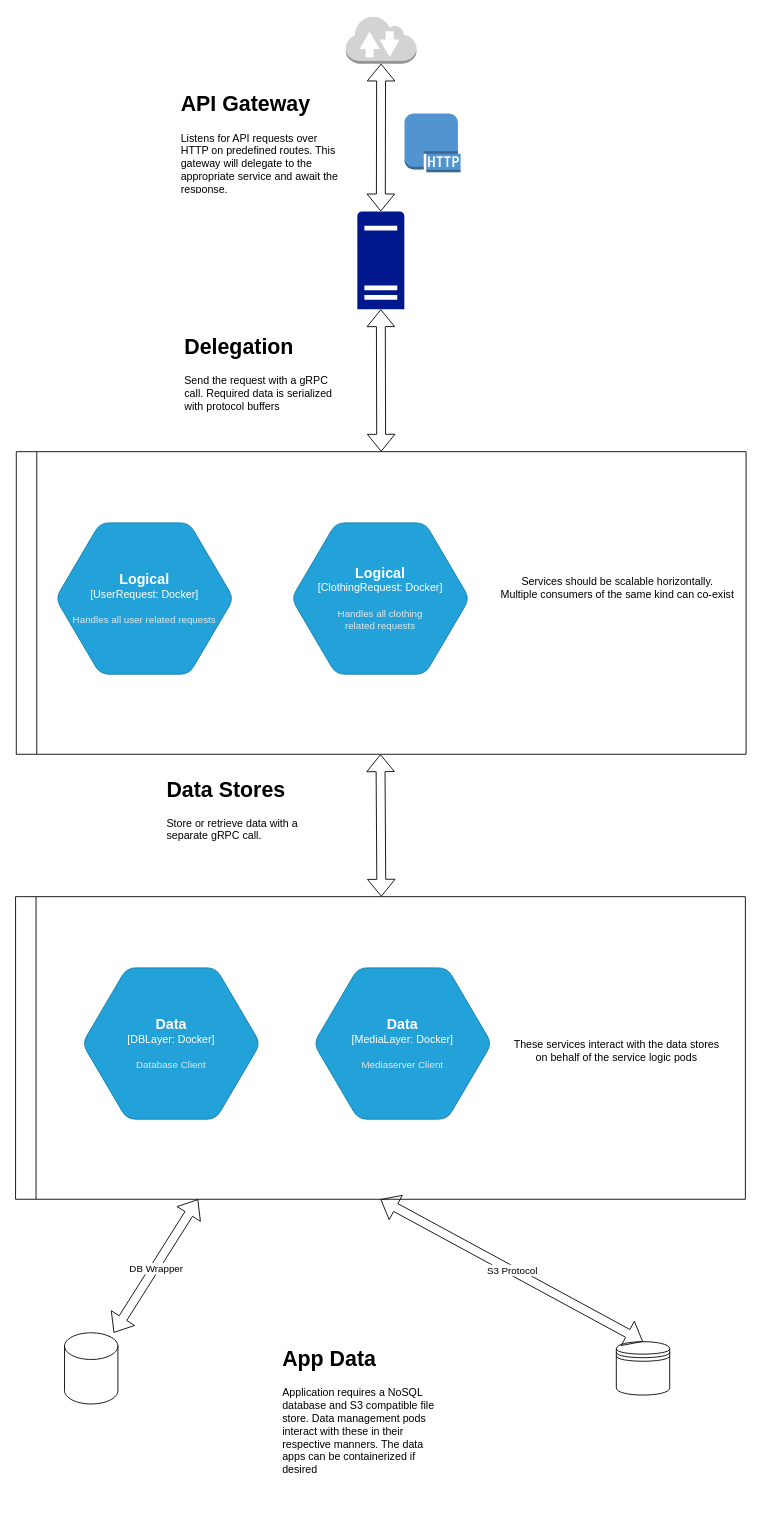
Image size: 762x1526. Some labels were removed from this diagram. The box of each missing label's shape, as (x1, y1, x2, y2) in pixels:
Data Management Pods: (15, 896, 745, 1199)
Service Logic Pods: (15, 451, 746, 754)
